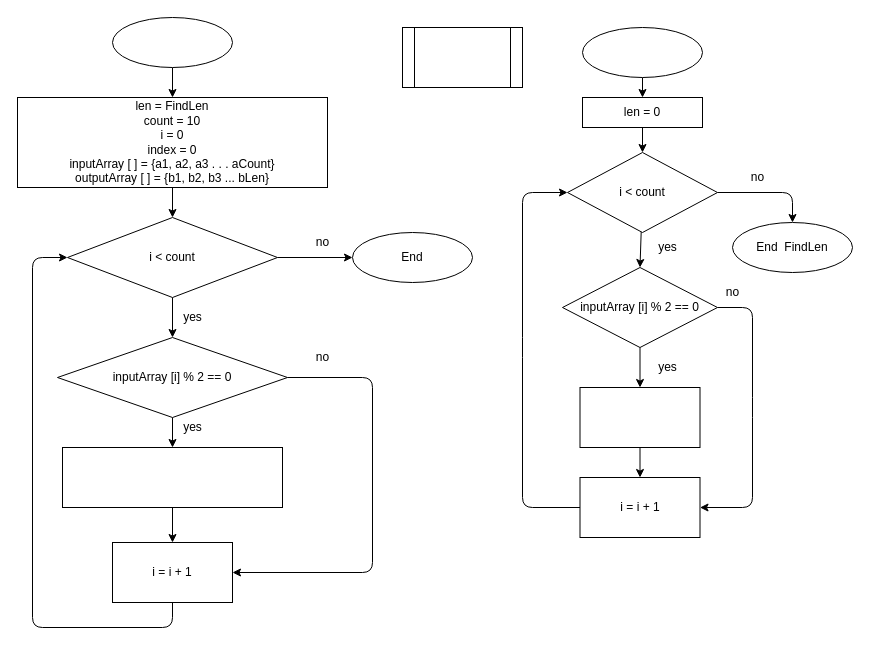
Image size: 870x653. Some labels were removed from this diagram. Each missing label, with the centre of its shape:
"FindLen" belongs at (462,57).
"len = len + 1" belongs at (639,417).
"outputArray [index] = inputArray [i] index = index + 1" belongs at (172,477).
"Start" belongs at (172,42).
"Start FindLen" belongs at (642,52).
